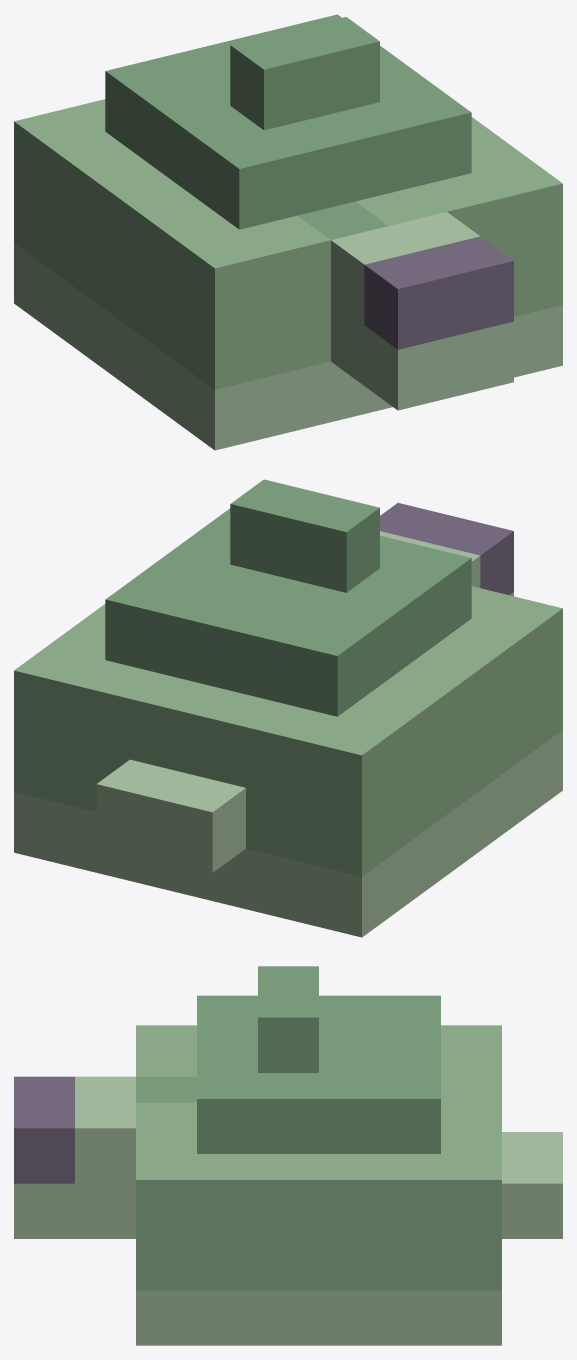
File: turtle.glb
The picture shows the model from 3 angles, top to bottom: view 1: azimuth 30°, elevation 25°; view 2: azimuth 150°, elevation 25°; view 3: azimuth 270°, elevation 25°; orthographic projection. The views are drawn at different scales.
Parts seen in each view (by area): view 1: turtle; view 2: turtle; view 3: turtle.
Boxes of the visible parts, bbox=[...] form: turtle: bbox=[14, 14, 562, 450]; turtle: bbox=[14, 479, 562, 937]; turtle: bbox=[14, 966, 562, 1345].
Size of the model in its own units: 0.6 by 0.5 by 0.9.
